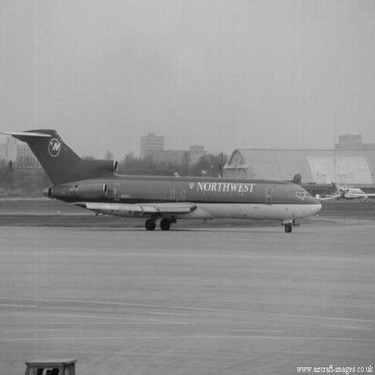airplane: (1, 104, 332, 248)
